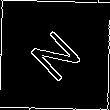N_SE: (23, 22, 87, 88)
